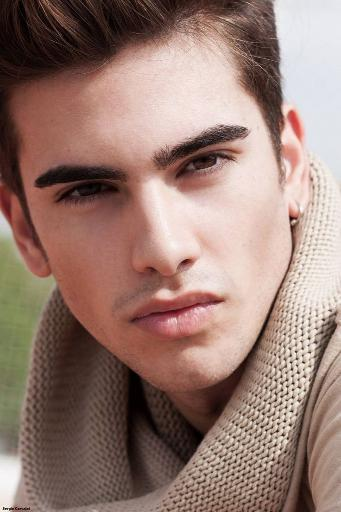left_eye: (177, 148, 241, 181)
left_lip_corner: (212, 288, 232, 315)
right_eye: (55, 180, 121, 210)
right_lip_corner: (125, 312, 140, 330)
